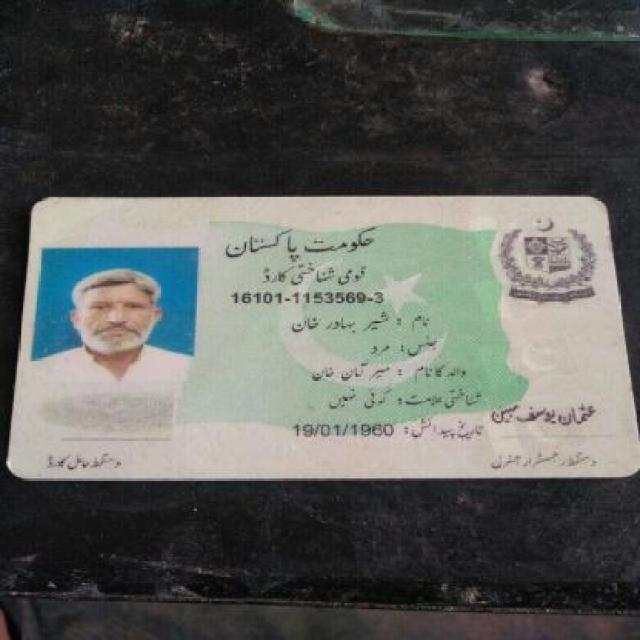Front: (1, 185, 637, 480)
